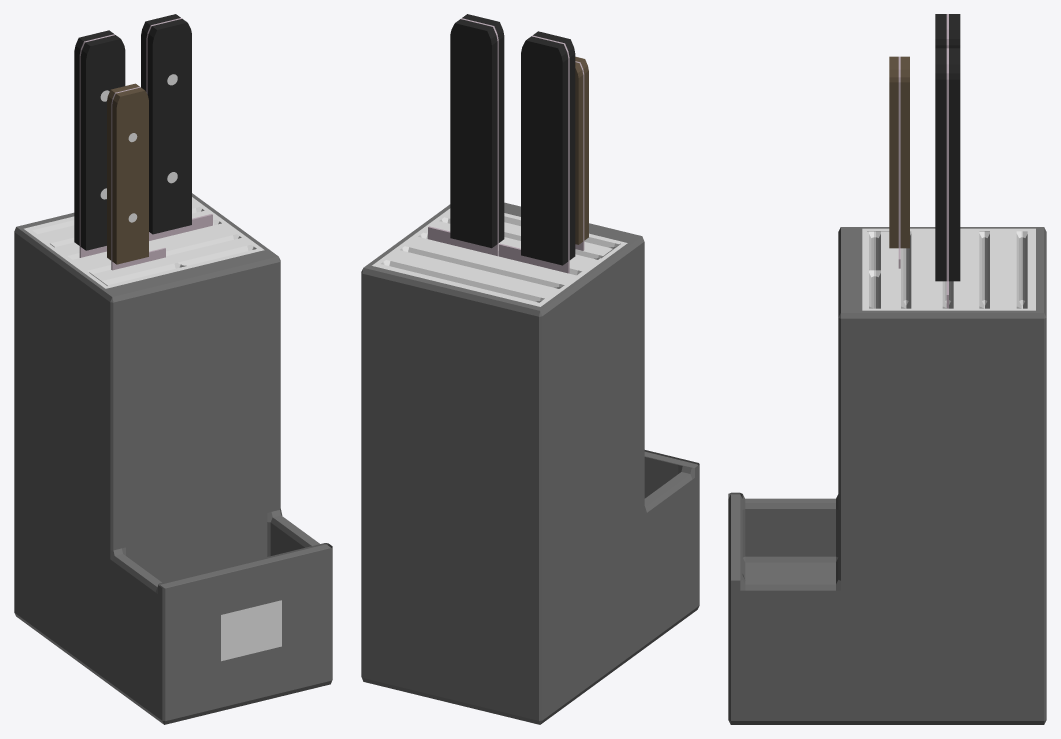
The model's file is kniveholder.glb.
3 renders of one model, left to right at view 1: azimuth 30°, elevation 25°; view 2: azimuth 150°, elevation 25°; view 3: azimuth 270°, elevation 25°, orthographic. The views are drawn at different scales.
Parts seen in each view (by area): view 1: Knifeware; view 2: Knifeware; view 3: Knifeware.
Boxes of the visible parts, x1=… form: Knifeware: x1=14, y1=14, x2=332, y2=724; Knifeware: x1=361, y1=14, x2=699, y2=724; Knifeware: x1=728, y1=14, x2=1046, y2=724.
Bounding box in the file's own units: 0.6957 × 2.35 × 1.06.
